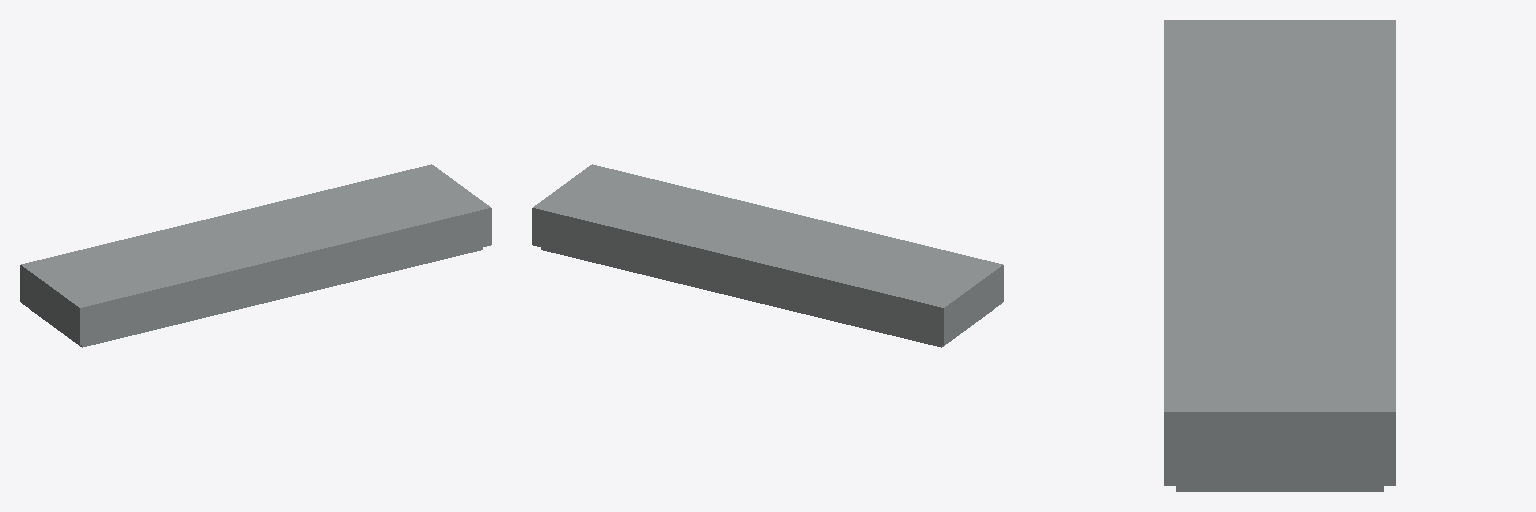
URDF robot description (2431__light_bluish_gray):
<?xml version="1.0"?>
<robot name="2431__light_bluish_gray">
  <link name="2431__light_bluish_gray">
    <inertial>
      <origin xyz="0.000000 0.000000 -0.001589" rpy="0 0 0"/>
      <mass value="0.000854"/>
      <inertia ixx="5.220835397e-09" ixy="1.979094239e-25" ixz="-2.582345859e-25" iyy="7.334529236e-08" iyz="-1.437261319e-26" izz="7.712696893e-08"/>
    </inertial>
    <visual>
      <geometry>
        <mesh filename="../meshes/visual/2431.obj" scale="1 1 1"/>
      </geometry>
      <material name="2431__light_bluish_gray_color">
        <color rgba="0.630 0.650 0.650 1.000"/>
      </material>
    </visual>
    <collision>
      <geometry>
        <mesh filename="../meshes/collision/2431_hull.obj" scale="1 1 1"/>
      </geometry>
    </collision>
  </link>
</robot>

--- Facts derived from the render (not from the file) ---
The picture shows the robot from 3 angles, left to right: view 1: azimuth 30°, elevation 25°; view 2: azimuth 150°, elevation 25°; view 3: azimuth 270°, elevation 25°; orthographic projection.
Model 2431__light_bluish_gray with 1 links and 0 joints (none), rooted at 2431__light_bluish_gray, posed all joints at 0.
Links seen in each view (by area): view 1: 2431__light_bluish_gray; view 2: 2431__light_bluish_gray; view 3: 2431__light_bluish_gray.
Boxes of the visible links, box(x1,y1,x2,y2) form: 2431__light_bluish_gray: box(20, 164, 491, 347); 2431__light_bluish_gray: box(532, 164, 1003, 347); 2431__light_bluish_gray: box(1164, 20, 1395, 491).
Size in the robot's own frame: 0.032 by 0.008 by 0.0032 metres.
Meshes: 1 distinct files referenced, 1 mesh visuals loaded (1 OBJ).
